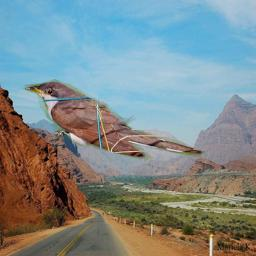Cuckoo: (23, 77, 207, 166)
